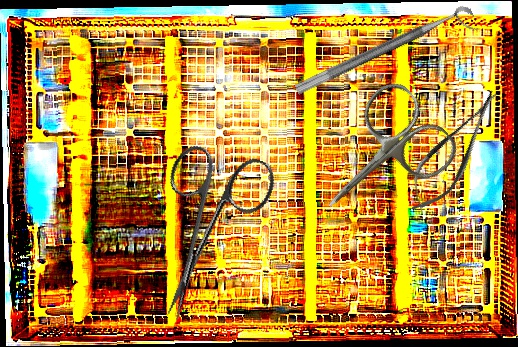Fixation Ring: (293, 2, 481, 111)
Iris Scissors: (125, 134, 281, 336), (293, 74, 465, 244)
Micro Scissor: (394, 80, 515, 223)
